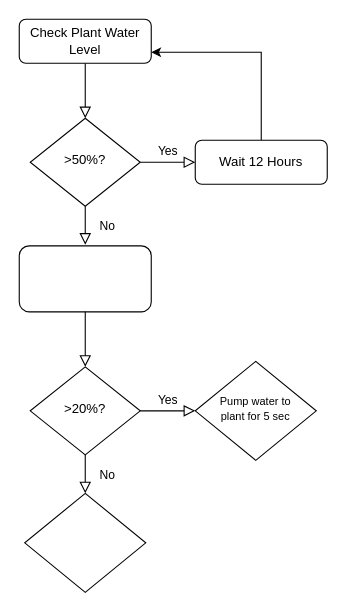
Some shapes in this 347 by 612 pixel diagram are drawn without their labels. Here are the shapes that lost their labels. From the top down, the box of each, then its label:
(18, 245, 151, 312): Check Pump Water Level
(24, 492, 146, 592): Alert Buzzer every 5 seconds
